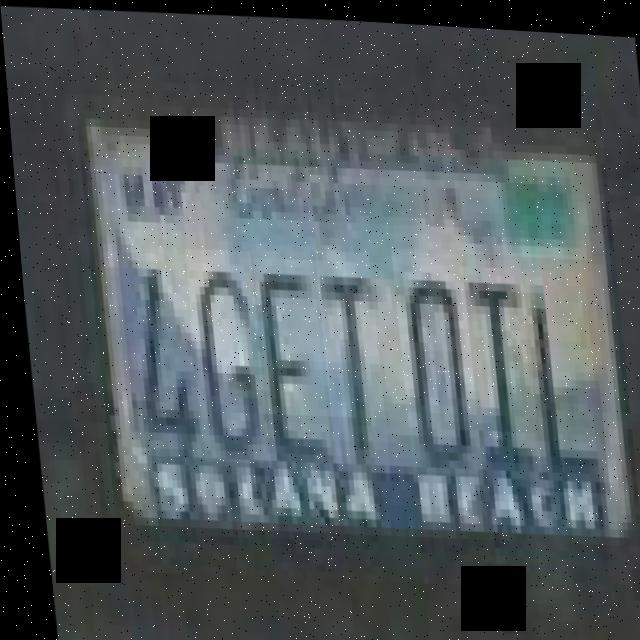0: (387, 245, 475, 470)
4: (115, 244, 197, 452)
E: (247, 239, 325, 477)
G: (180, 245, 263, 461)
I: (457, 247, 535, 492)
L: (516, 249, 602, 487)
T: (310, 245, 382, 469)
